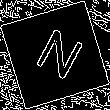N_SW: (25, 23, 85, 87)
